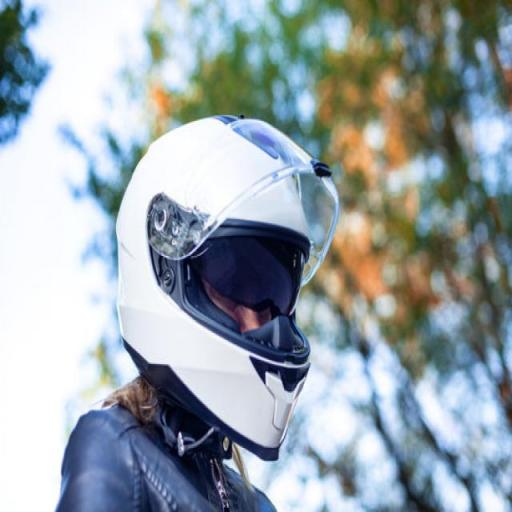Helmet: (116, 116, 338, 459)
